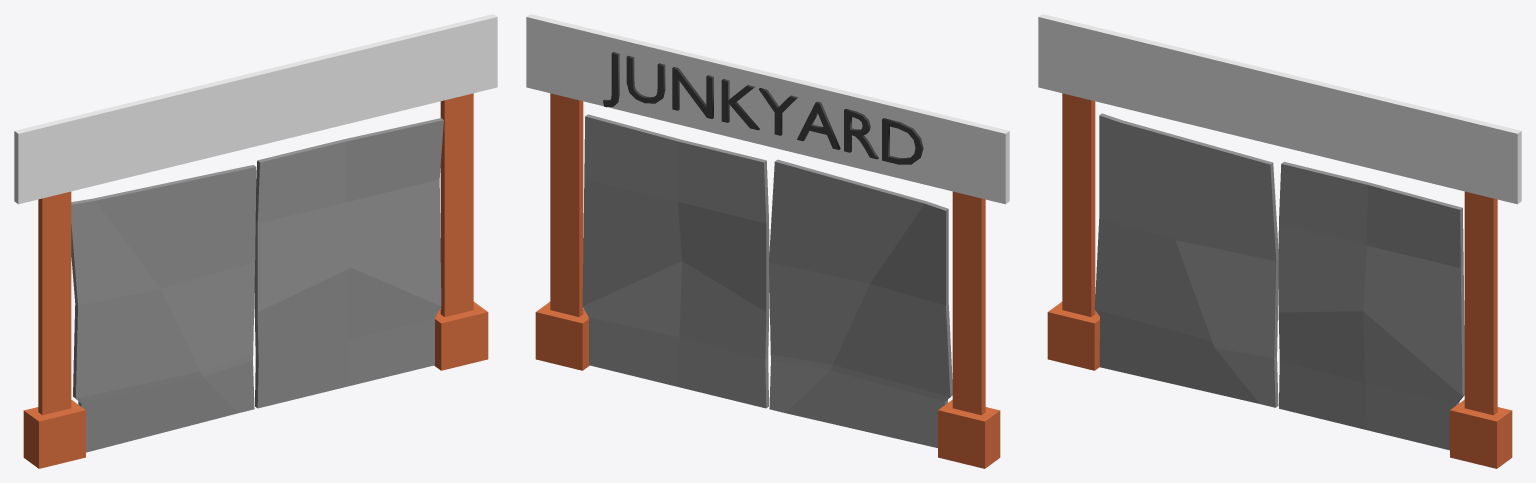
Rendered from Gates.fbx.
3 renders of one model, left to right at view 1: azimuth 30°, elevation 25°; view 2: azimuth 150°, elevation 25°; view 3: azimuth 330°, elevation 25°, orthographic.
Parts seen in each view (by area): view 1: Gates closed, Gates door2, Gates door1; view 2: Gates closed, Gates door2, Gates door1, Text Junkyard; view 3: Gates closed, Gates door2, Gates door1.
Boxes of the visible parts, <box> form: Gates closed: <box>14,14,497,468</box>; Gates door2: <box>254,118,443,408</box>; Gates door1: <box>71,165,256,452</box>; Gates closed: <box>526,14,1009,468</box>; Gates door2: <box>582,114,769,408</box>; Gates door1: <box>769,159,952,447</box>; Text Junkyard: <box>603,52,923,164</box>; Gates closed: <box>1038,14,1521,468</box>; Gates door2: <box>1278,161,1464,450</box>; Gates door1: <box>1094,113,1278,407</box>.
Size of the model in its own units: 3117 by 2080 by 172.
